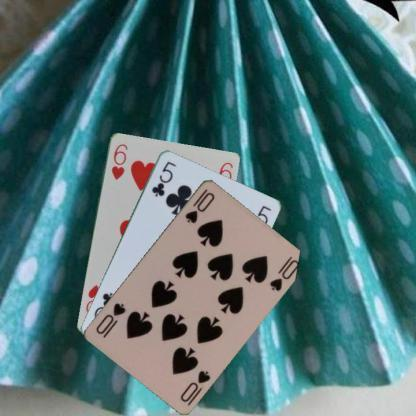10s: (177, 367, 212, 407), (182, 186, 216, 224)
5c: (148, 158, 178, 198)
6h: (108, 141, 128, 181)
